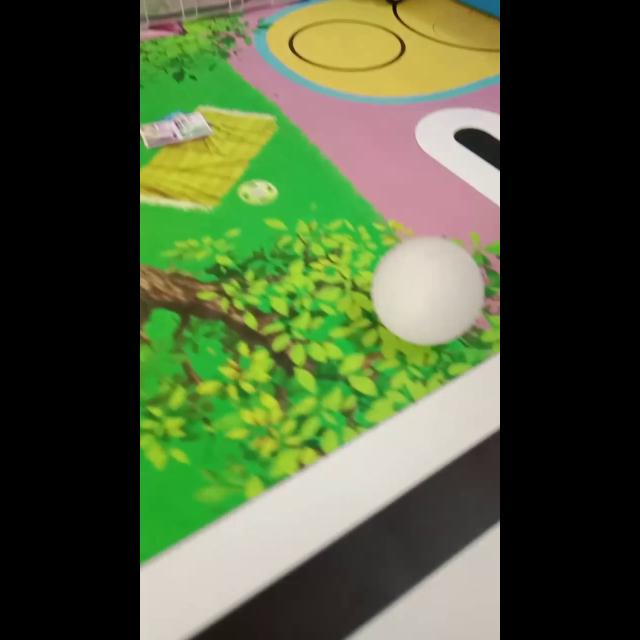white ball: (369, 234, 485, 346)
